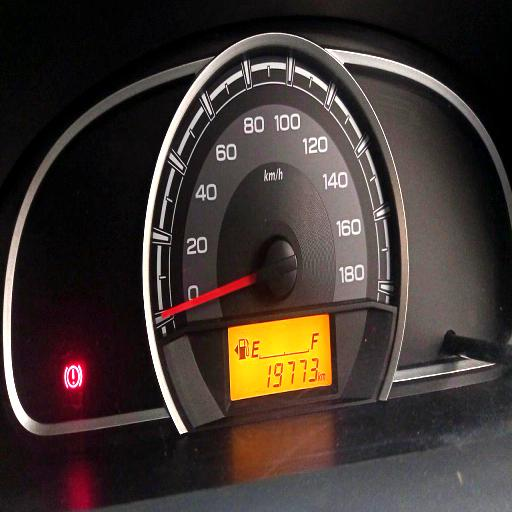brake_system_fault: (64, 364, 83, 390)
